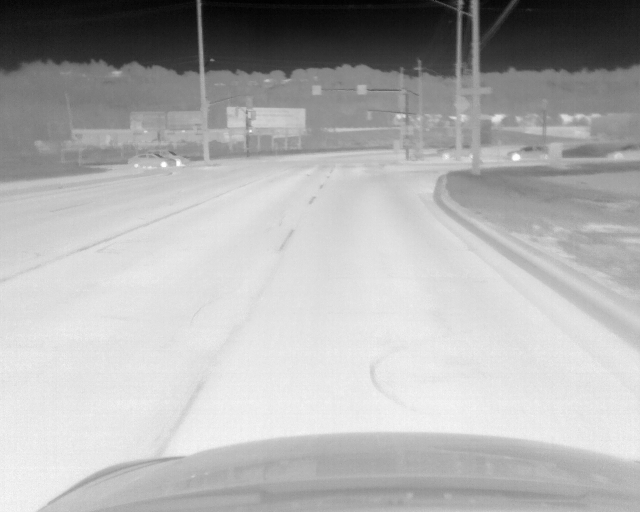car: (127, 153, 175, 168), (506, 145, 551, 161), (435, 144, 474, 159), (606, 145, 640, 161), (157, 149, 188, 166)
